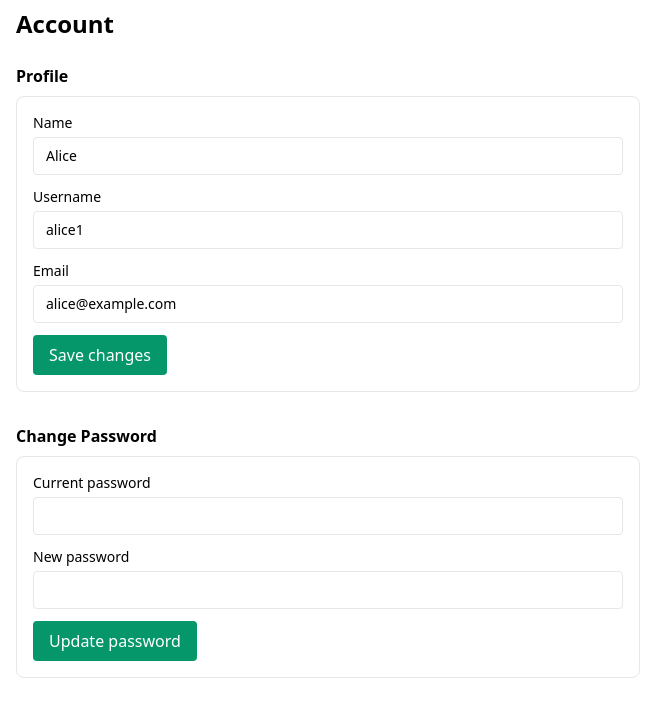
it: AccountPage - profile › shows an error from the API without touching the password section
Click the button "Save changes". click: (100, 355)
box: [33, 335, 167, 375]
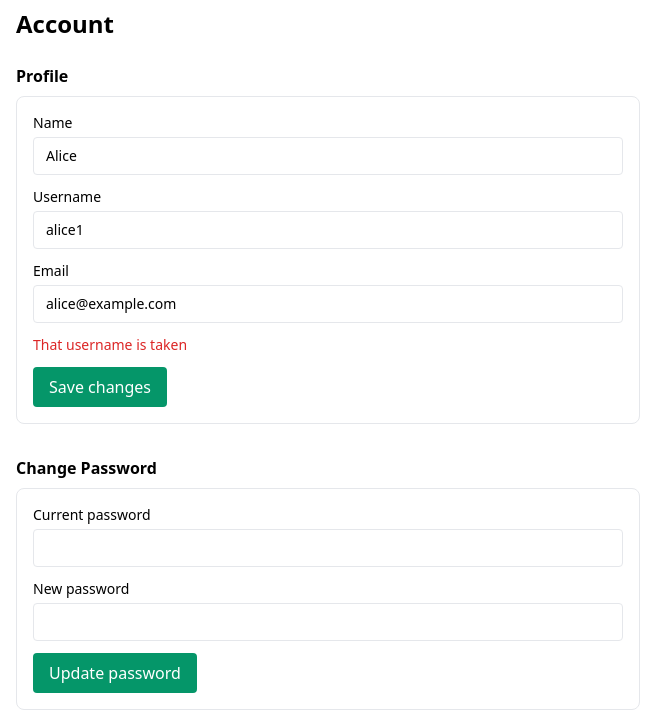
Result: the text "That username is taken" is shown at [33, 335, 187, 354]
